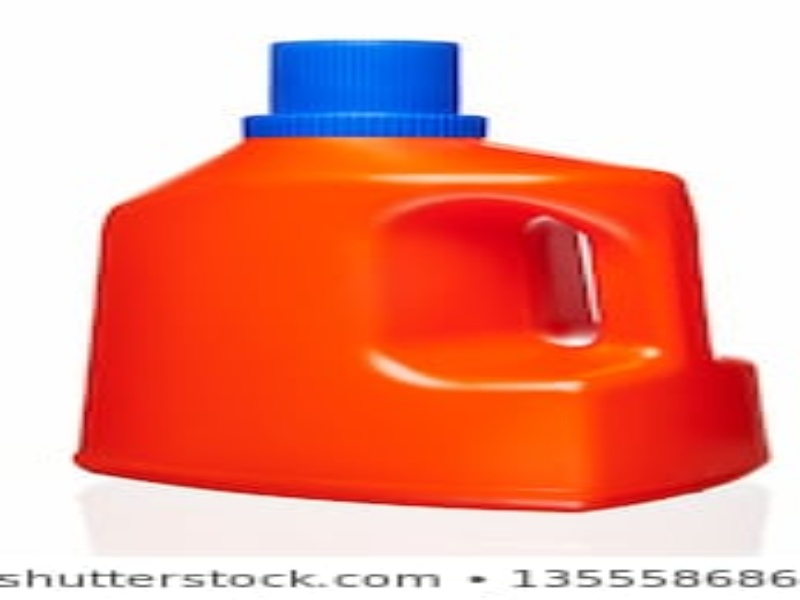detergent-bottle: (74, 35, 772, 512)
